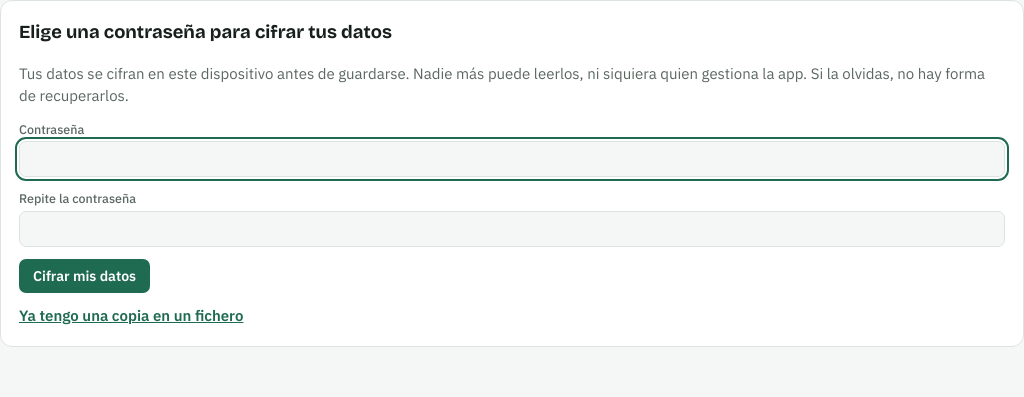
it: Desbloqueo › la primera vez exige que las dos contraseñas coincidan
This screenshot has width=1024, height=397.
Type "correcta-123" into the password field labelled "Contraseña" at [512, 159], box x1=19 y1=141 x2=1005 y2=177
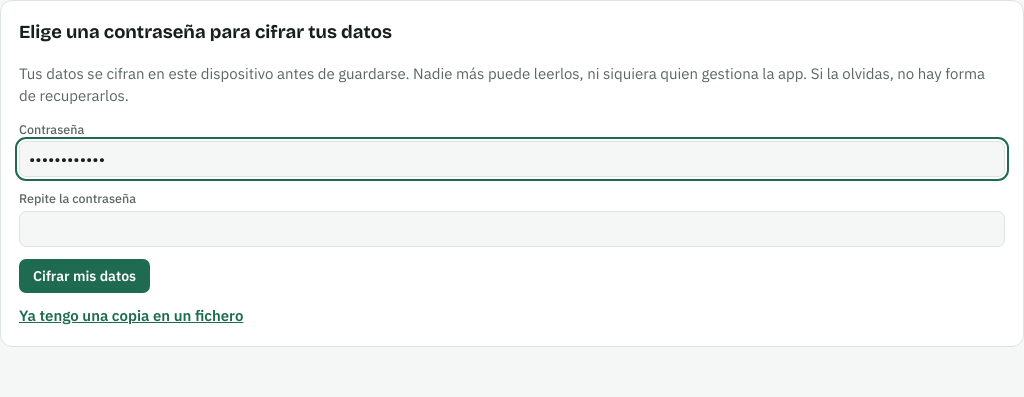
Type "otra-distinta" into the password field labelled "Repite la contraseña" at [512, 229], box x1=19 y1=211 x2=1005 y2=247
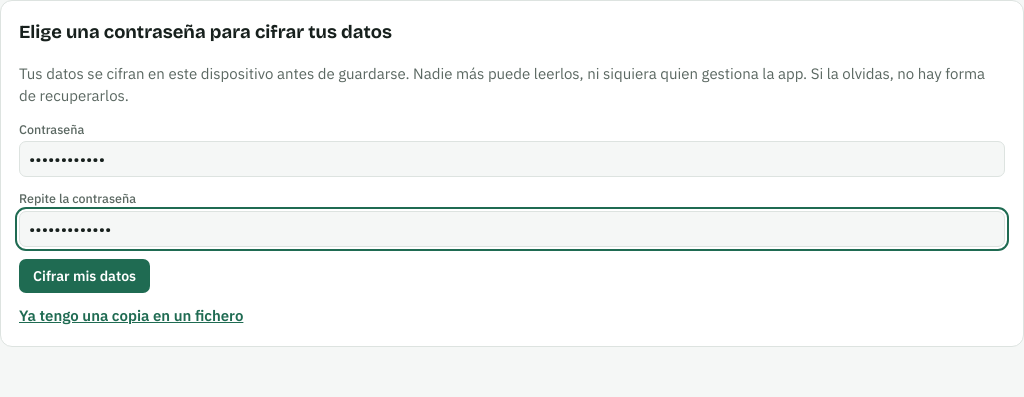
Click the button "Cifrar mis datos" at [85, 276], box x1=19 y1=259 x2=150 y2=293
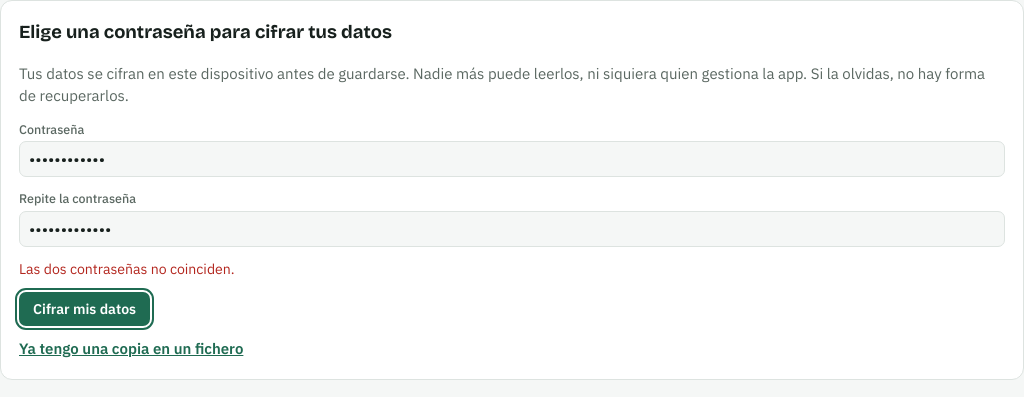
Expected: the message reads "Las dos contraseñas no coinciden.", x1=19 y1=260 x2=235 y2=278
